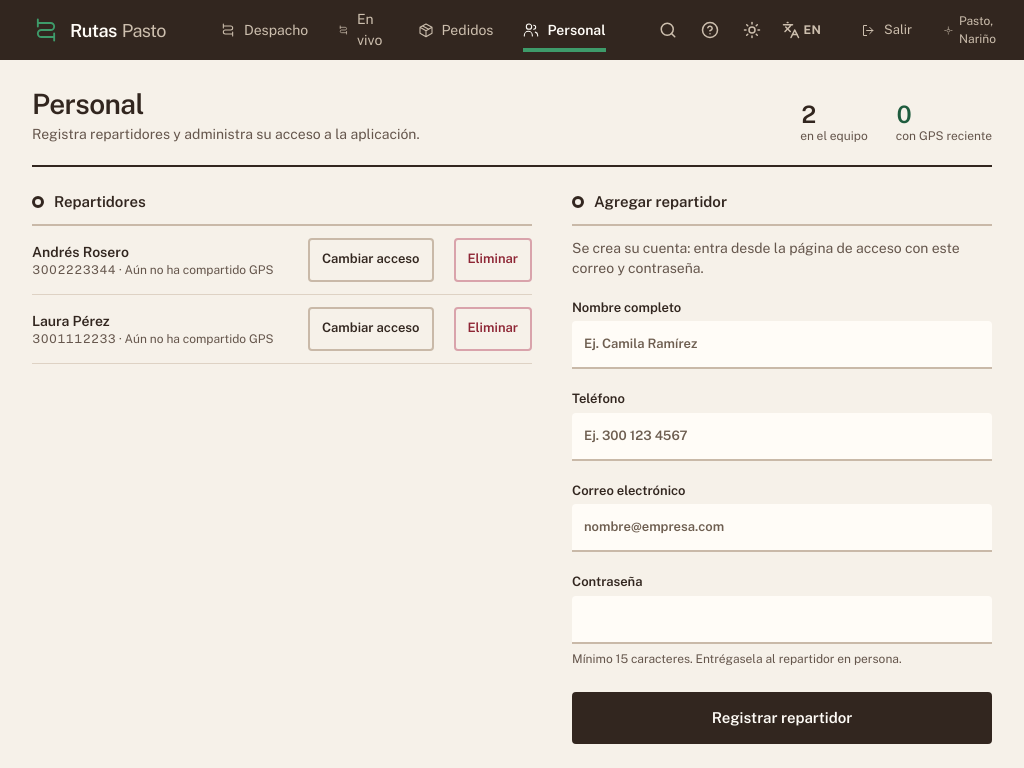
Test: no envía nada si el correo o la contraseña no cumplen
Type "Camila Ramírez" into the field labelled "Nombre completo". click: (782, 345)
box: left=572, top=321, right=992, bottom=369
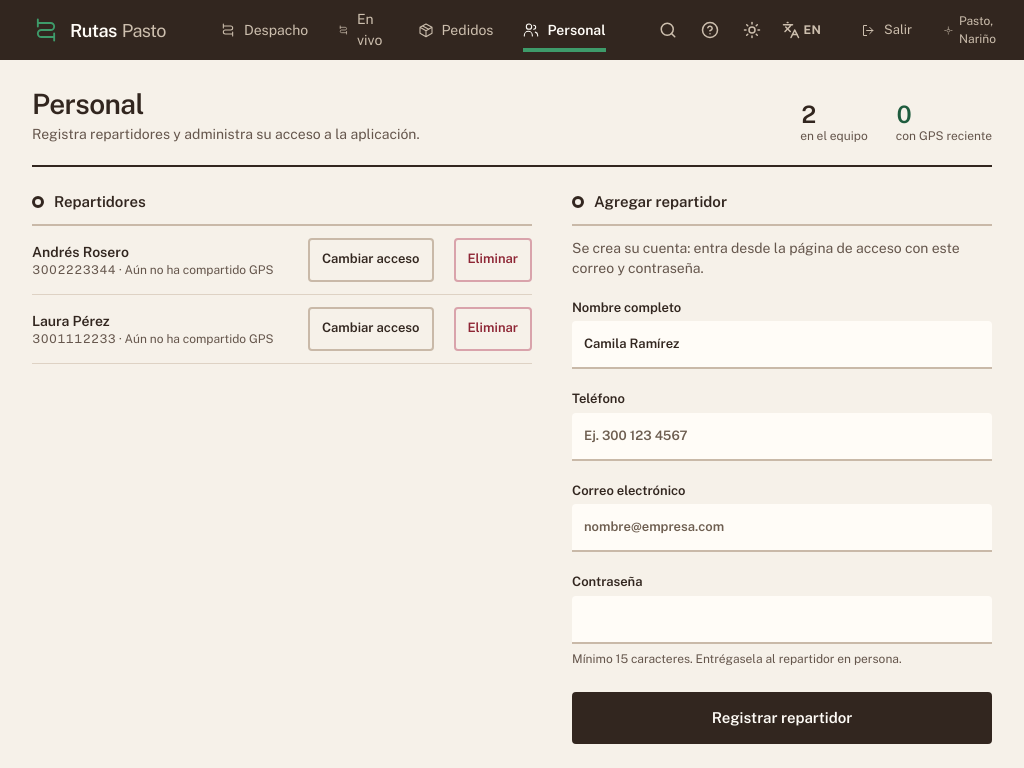
Type "3001234567" into the field labelled "Teléfono". click: (782, 437)
box: left=572, top=413, right=992, bottom=461
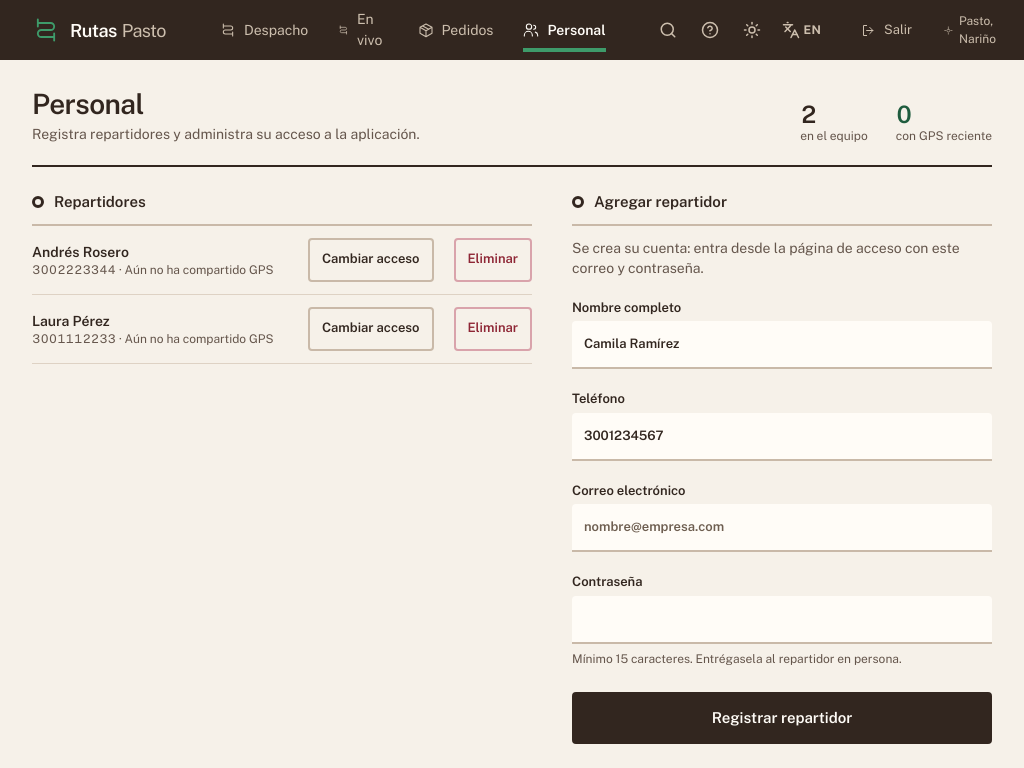
Type "camila-sin-arroba" into the field labelled "Correo electrónico". click: (782, 528)
box: left=572, top=504, right=992, bottom=552
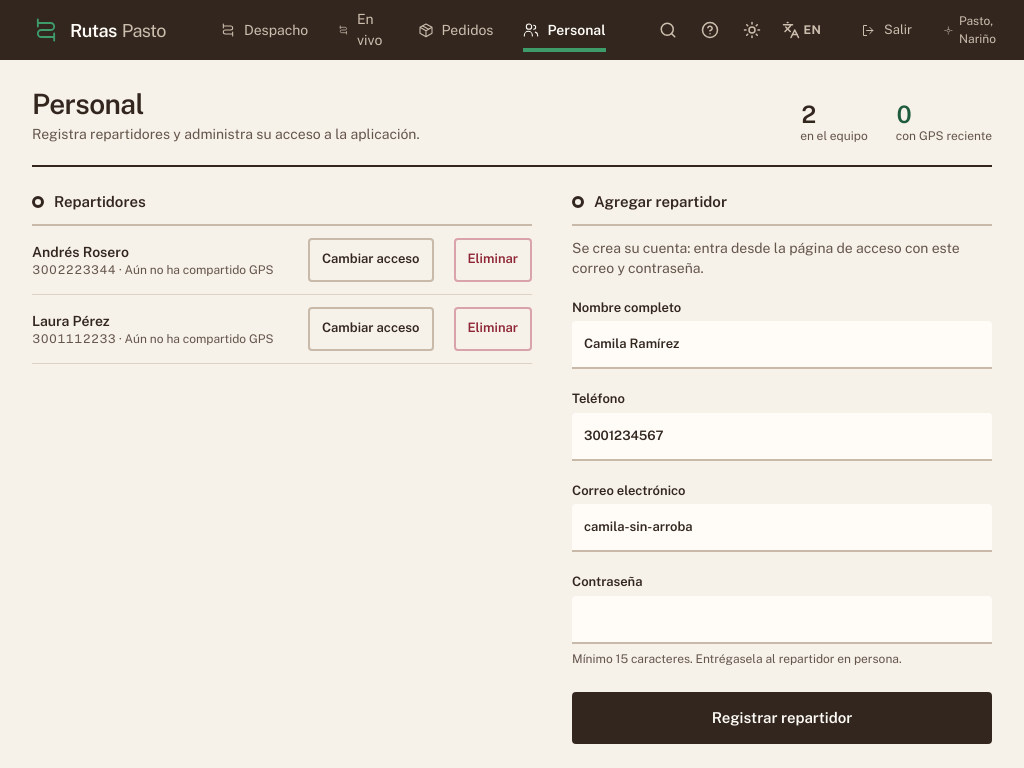
Type "corta" into the password field labelled "Contraseña". click: (782, 620)
box: left=572, top=596, right=992, bottom=644
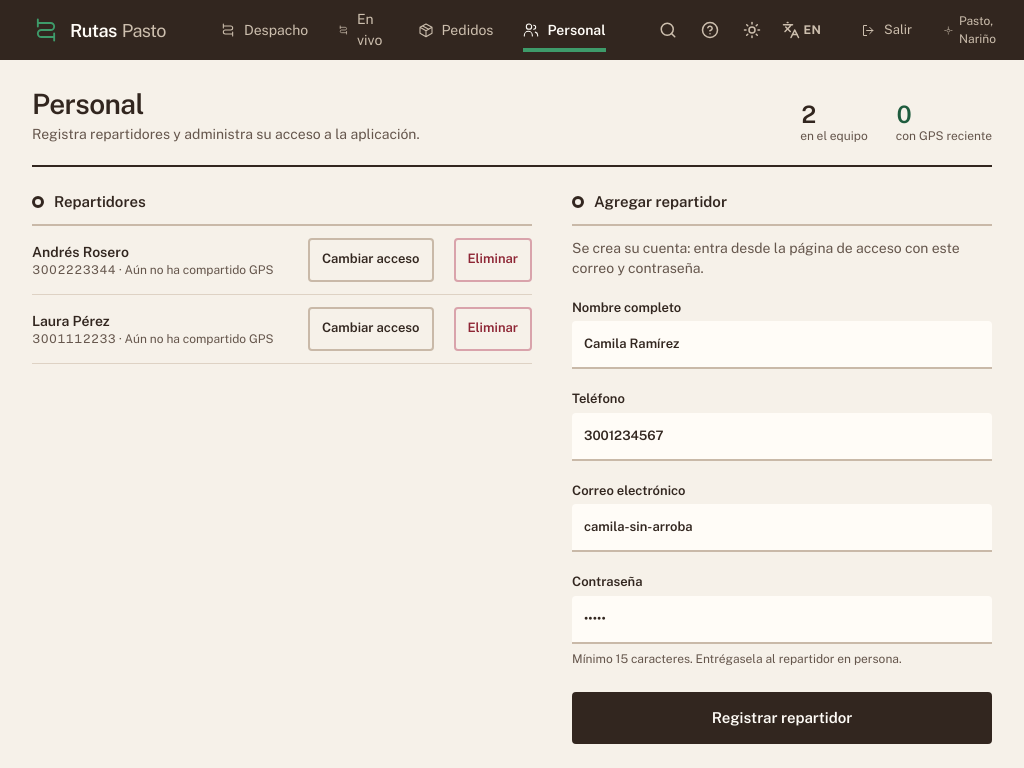
Click the button "Registrar repartidor". click: (782, 718)
box: left=572, top=692, right=992, bottom=744
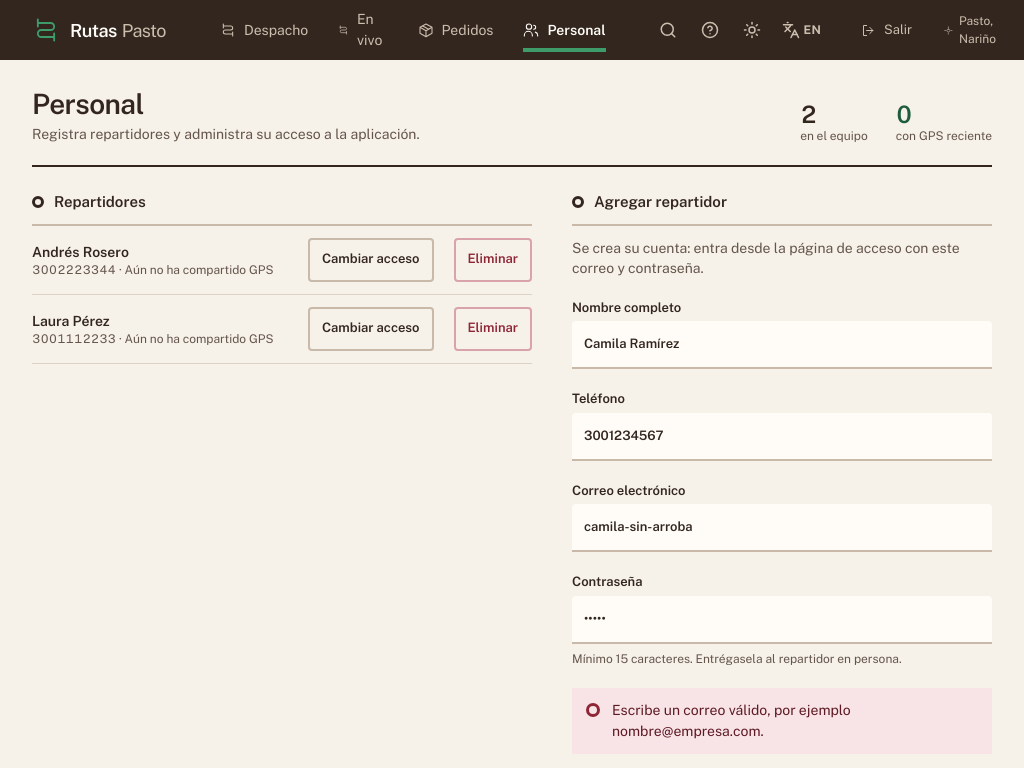
Result: the message shows "correo válido" at left=612, top=702, right=851, bottom=739
